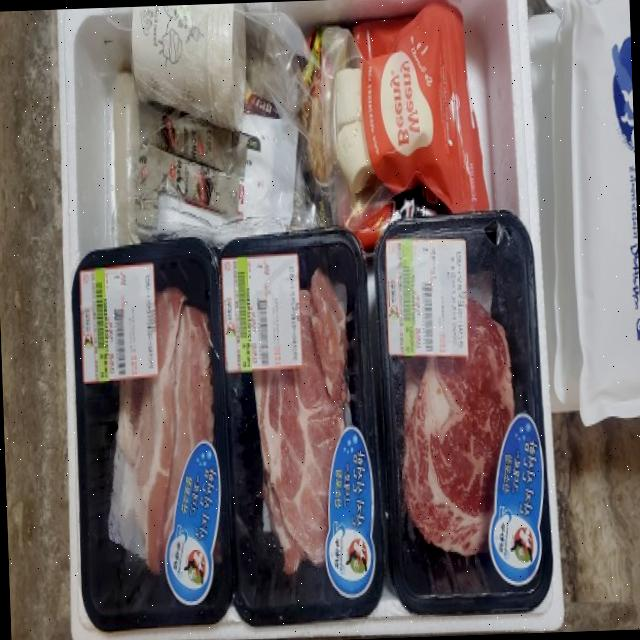meat: (384, 199, 562, 613), (216, 217, 387, 608), (82, 215, 219, 630)
